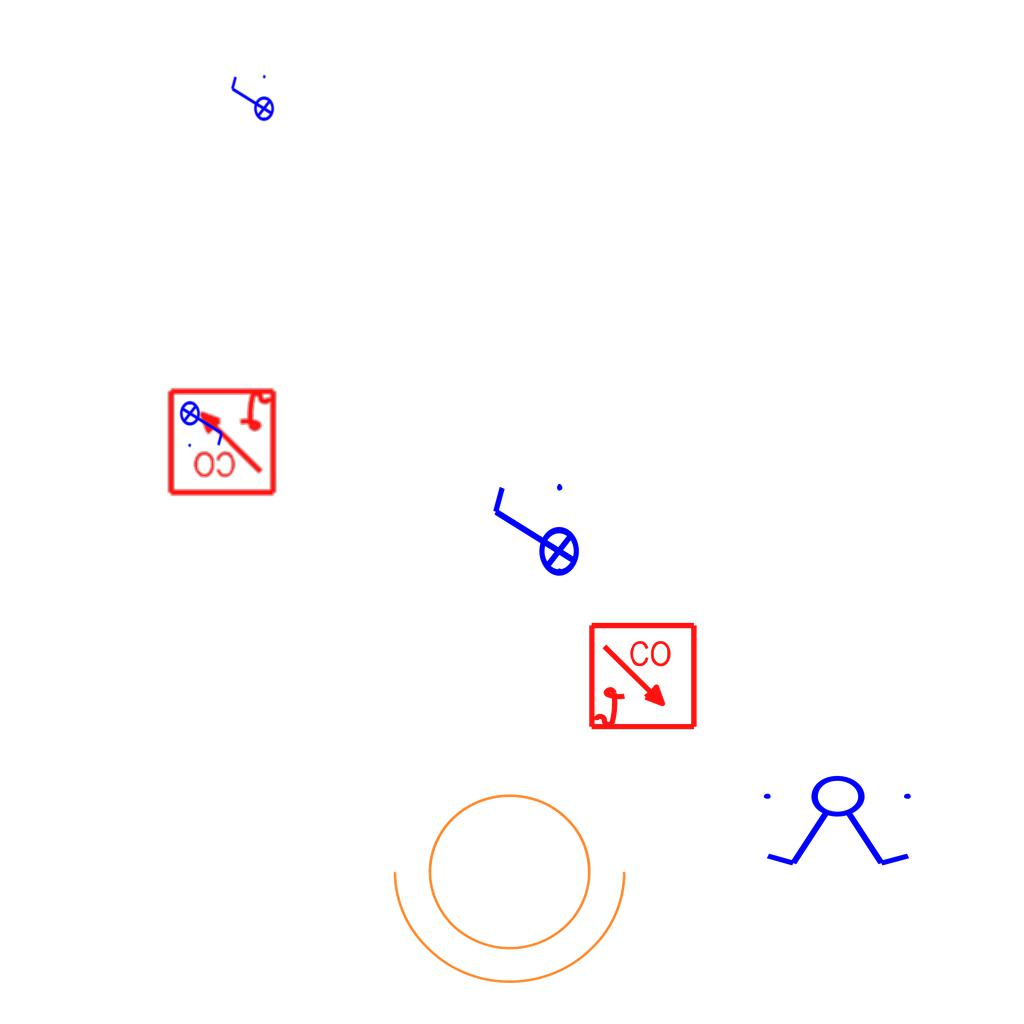Ausschalter_beleuchtet: (485, 478, 581, 590), (227, 72, 275, 128), (179, 394, 227, 450)
ROA_Rauchmelder_optisch_mit_Signalgeber_(Sockelsirene): (587, 621, 700, 734), (165, 384, 278, 497)
Scheinwerfer_fuer_Alarmbeleuchtung: (384, 769, 648, 994)
Serienschalter: (755, 774, 923, 870)
